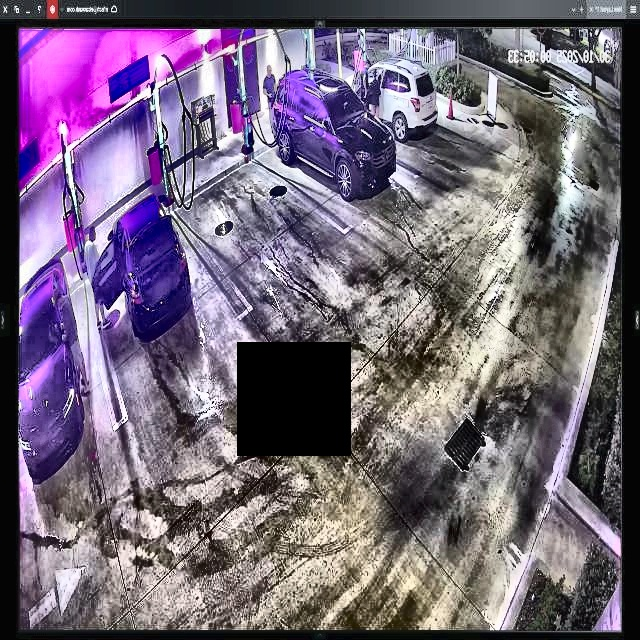Car: (270, 66, 399, 195), (91, 191, 191, 340)
